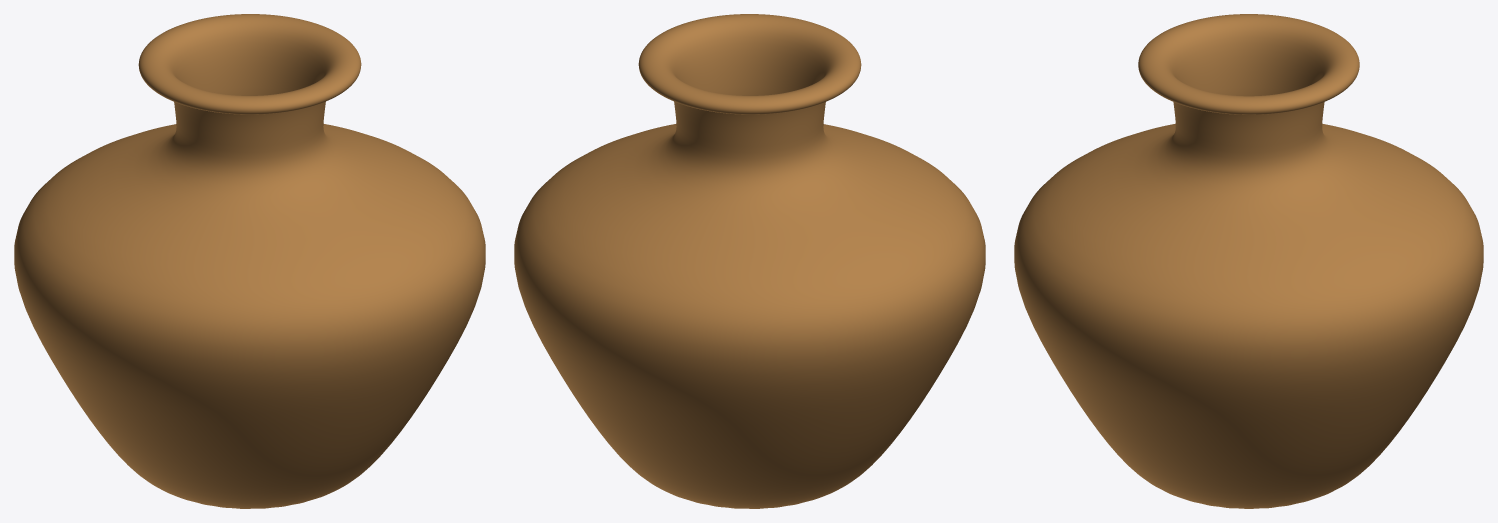
File: Jarron modelado.fbx
3 renders of one model, left to right at view 1: azimuth 30°, elevation 25°; view 2: azimuth 150°, elevation 25°; view 3: azimuth 270°, elevation 25°, orthographic.
Visible parts, largest first — view 1: Circle; view 2: Circle; view 3: Circle.
Boxes of the visible parts, x1,y1,x2,y2 form: Circle: (14, 14, 485, 508); Circle: (514, 14, 985, 508); Circle: (1014, 14, 1483, 508).
Size of the model in its own units: 4.69 by 4.59 by 4.67.
Materials: 1 (1 with a texture image).
